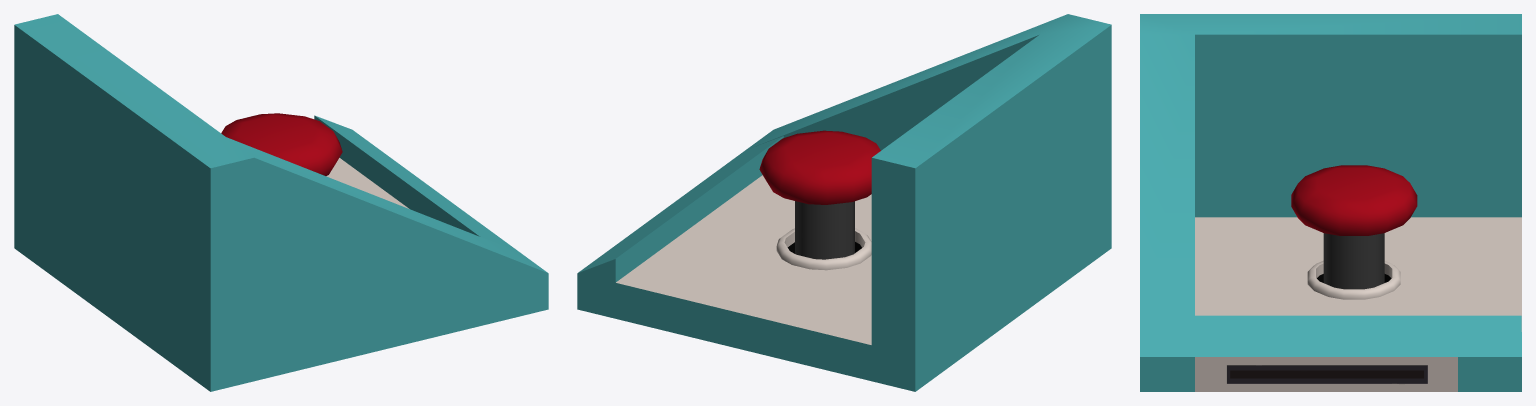
The model's file is surveillance_button_off.glb.
3 renders of one model, left to right at view 1: azimuth 30°, elevation 25°; view 2: azimuth 150°, elevation 25°; view 3: azimuth 270°, elevation 25°, orthographic. The views are drawn at different scales.
Parts seen in each view (by area): view 1: surveillance_button_off; view 2: surveillance_button_off; view 3: surveillance_button_off.
Boxes of the visible parts, box(x1,y1,x2,y2) form: surveillance_button_off: box(14, 14, 548, 391); surveillance_button_off: box(577, 14, 1111, 391); surveillance_button_off: box(1140, 14, 1521, 391).
Bounding box in the file's own units: 0.6257 × 0.3952 × 0.629.
Materials: 5 (1 with a texture image).
